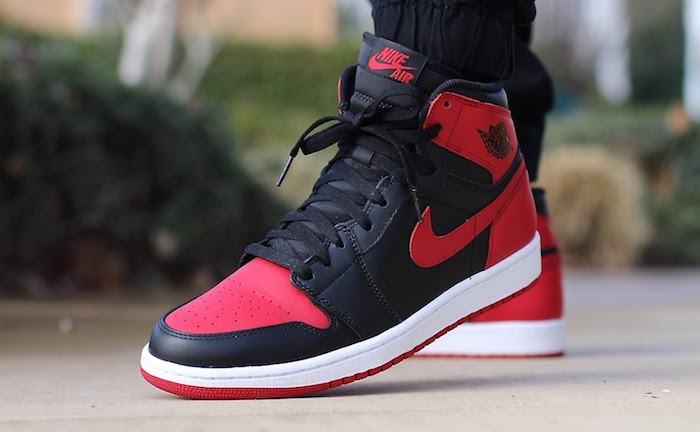Air Jordan 1 Bred: (131, 24, 551, 404)
